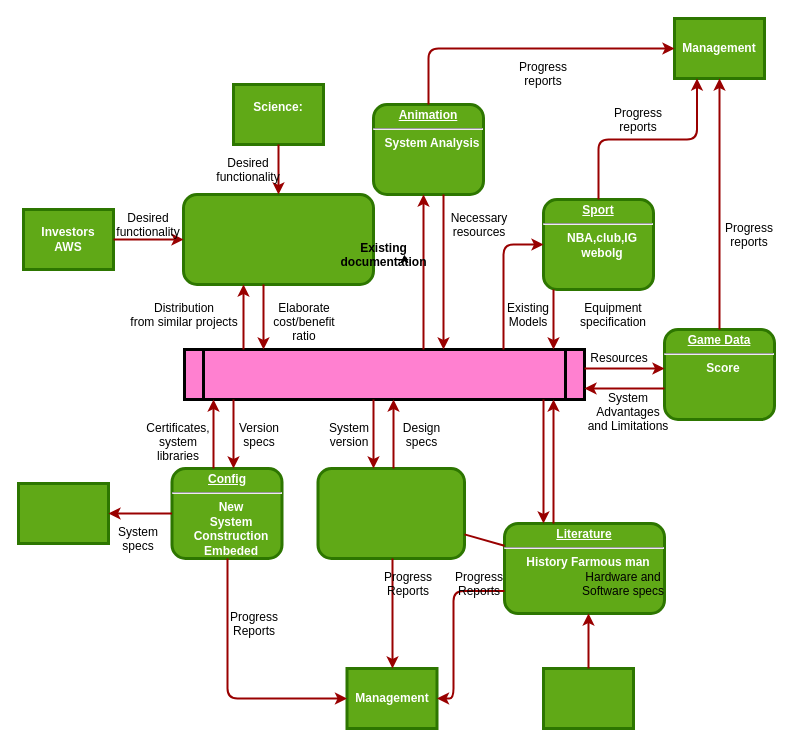
This 793x747 diagram has some shape labels left out. The centre of each missing label's shape, as x and y in pixels:
"High-look BBC Franch-design-way" belongs at (391,513).
"Interest ????,MilkTea,Sushi,ZuoJing table" belongs at (384,374).
"Language Flask" belongs at (63,513).
"Socialization QQ circle,group(Hardware) Collaberor(TikTok,FriCir,)" belongs at (278,239).
"Vendors" belongs at (588,698).
